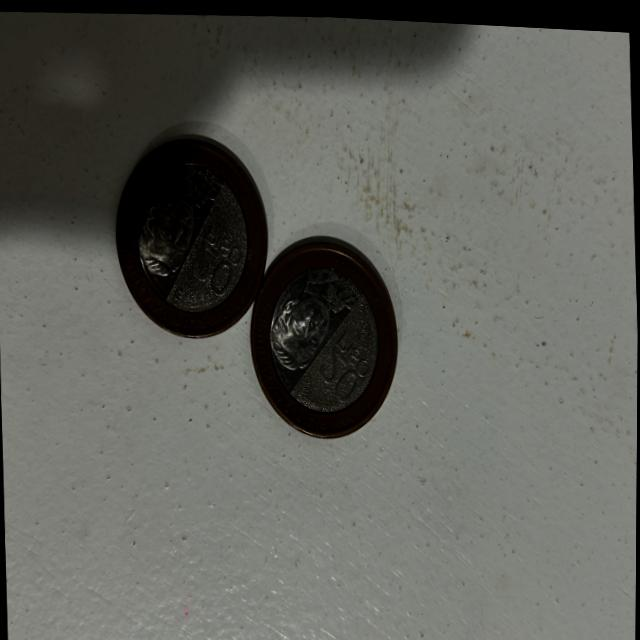20_New_Front: (189, 212, 245, 296), (312, 322, 371, 400)
